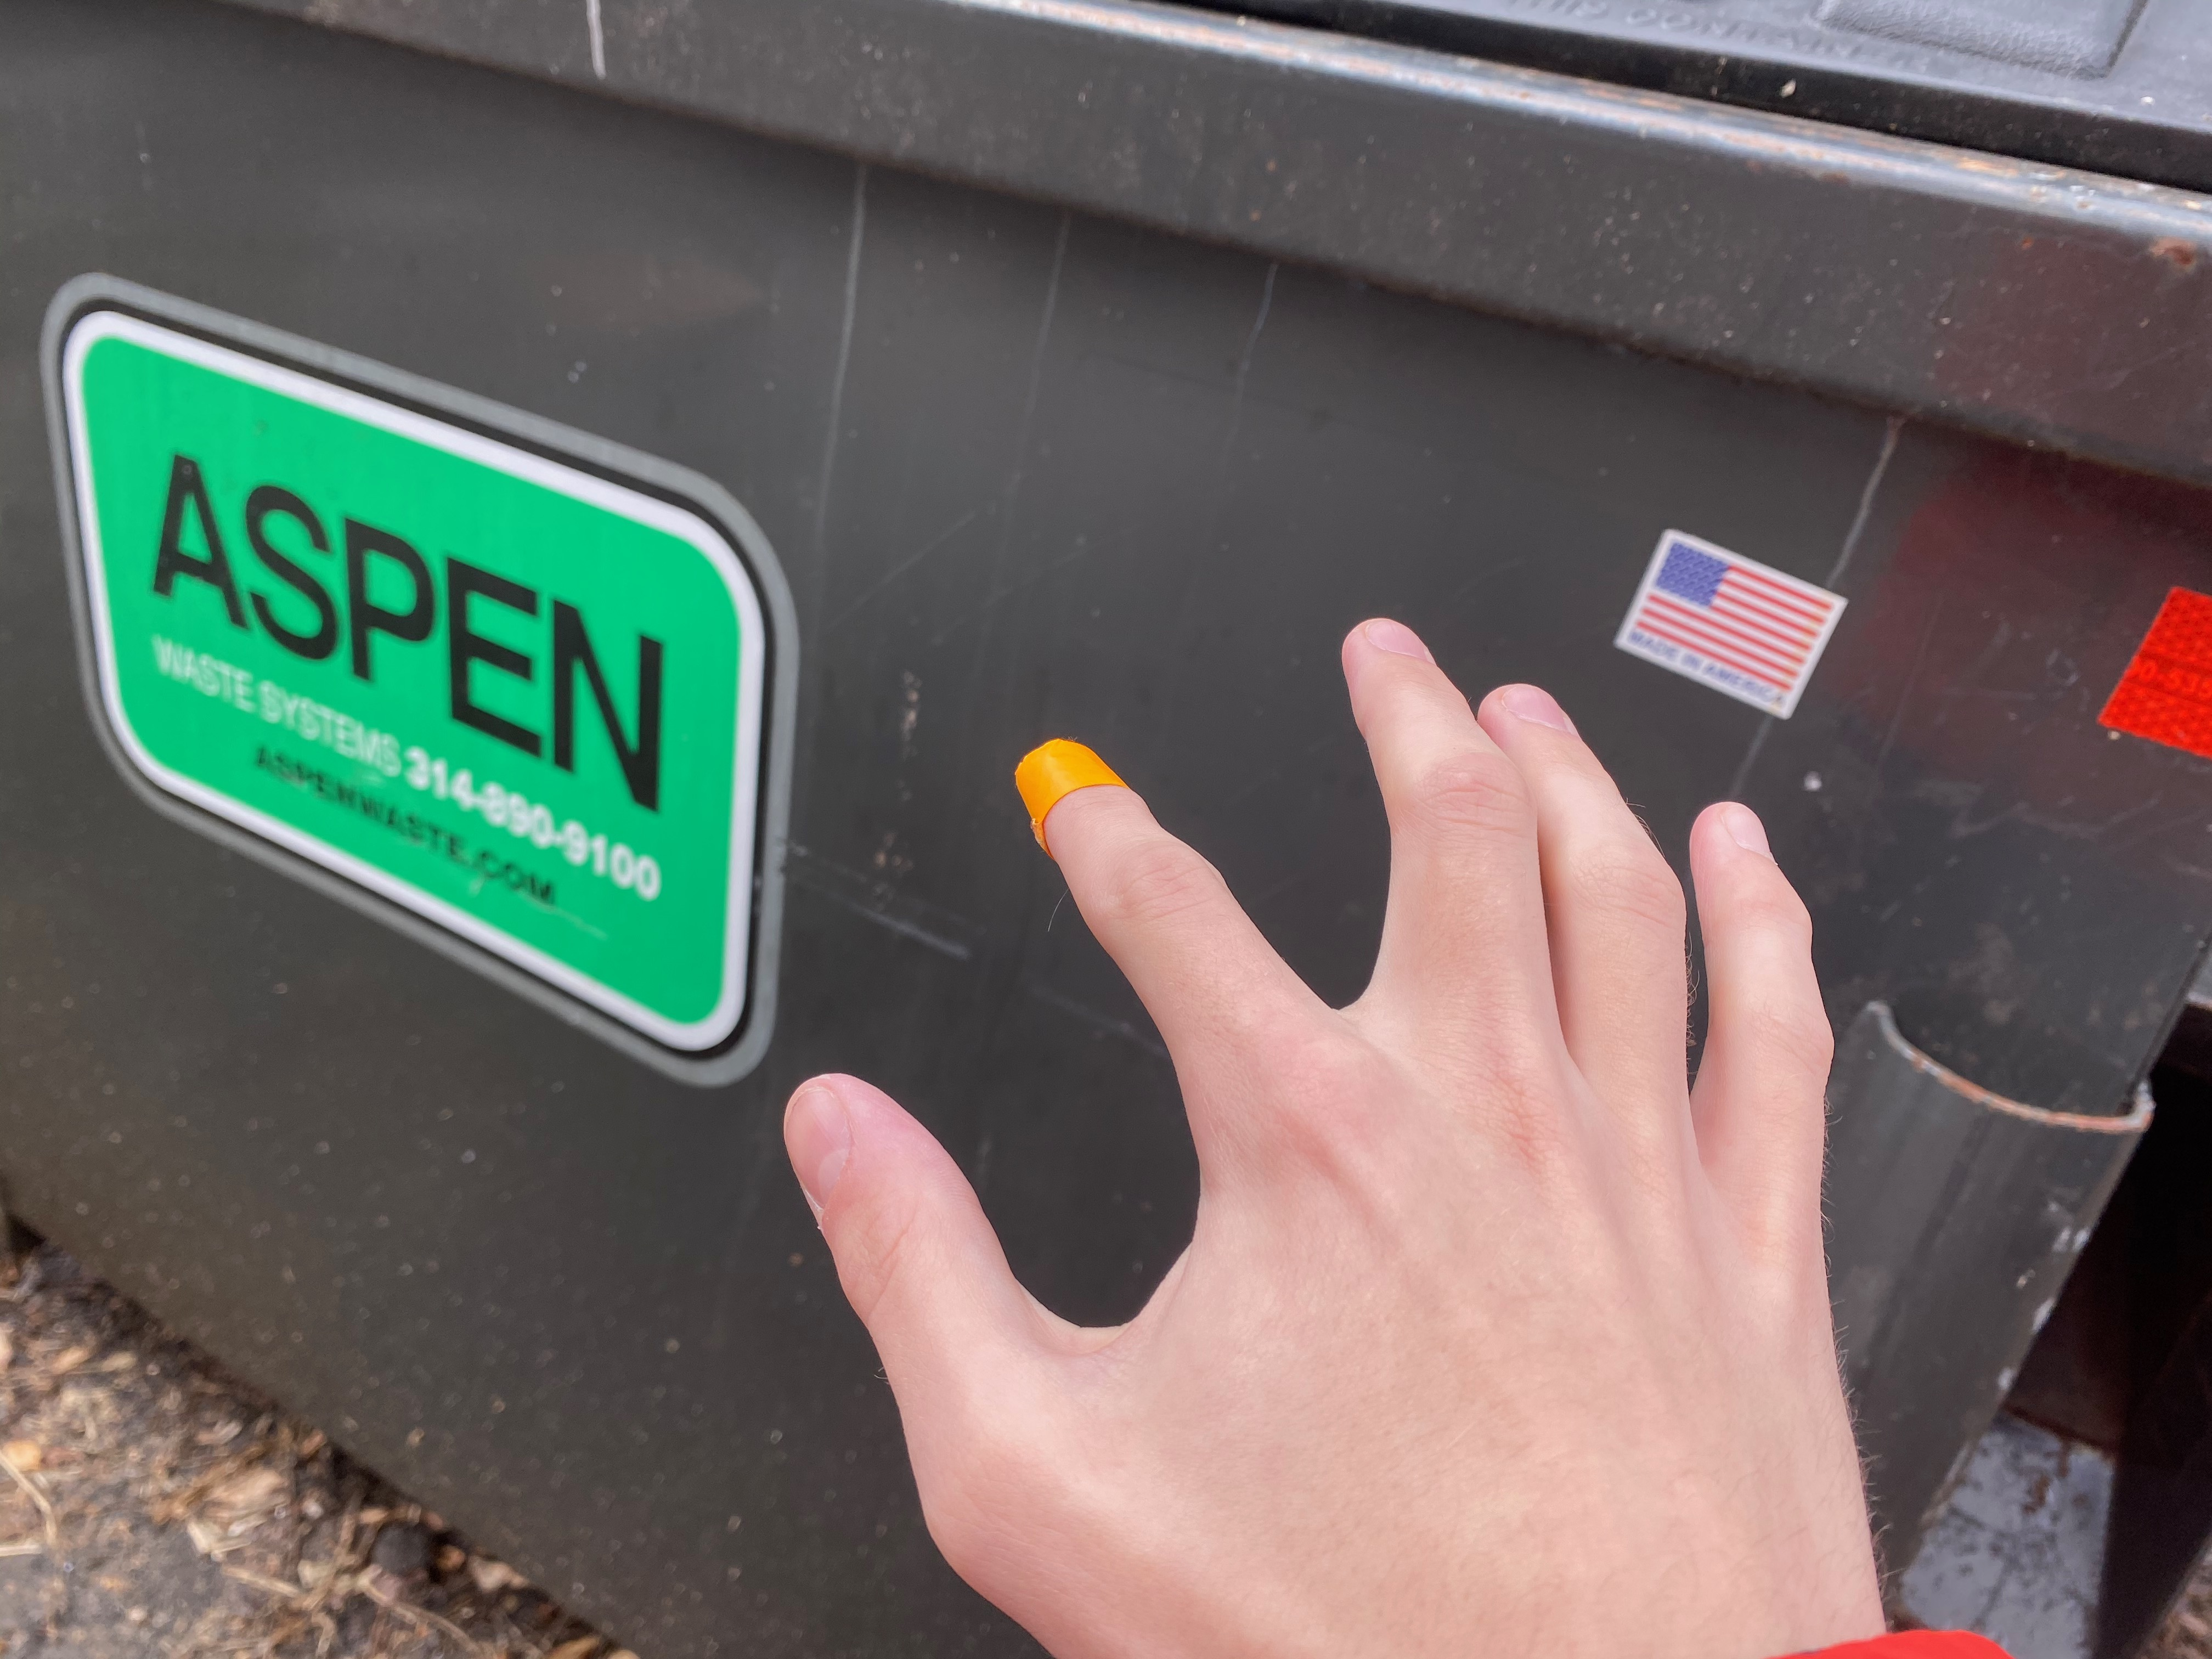fingertip: (982, 728, 1176, 875)
